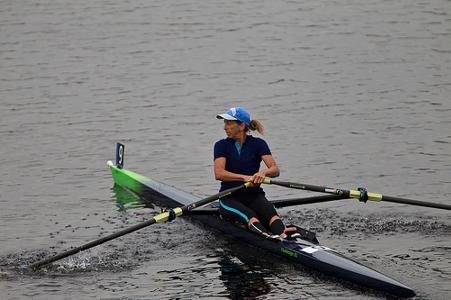person: (213, 107, 291, 241)
